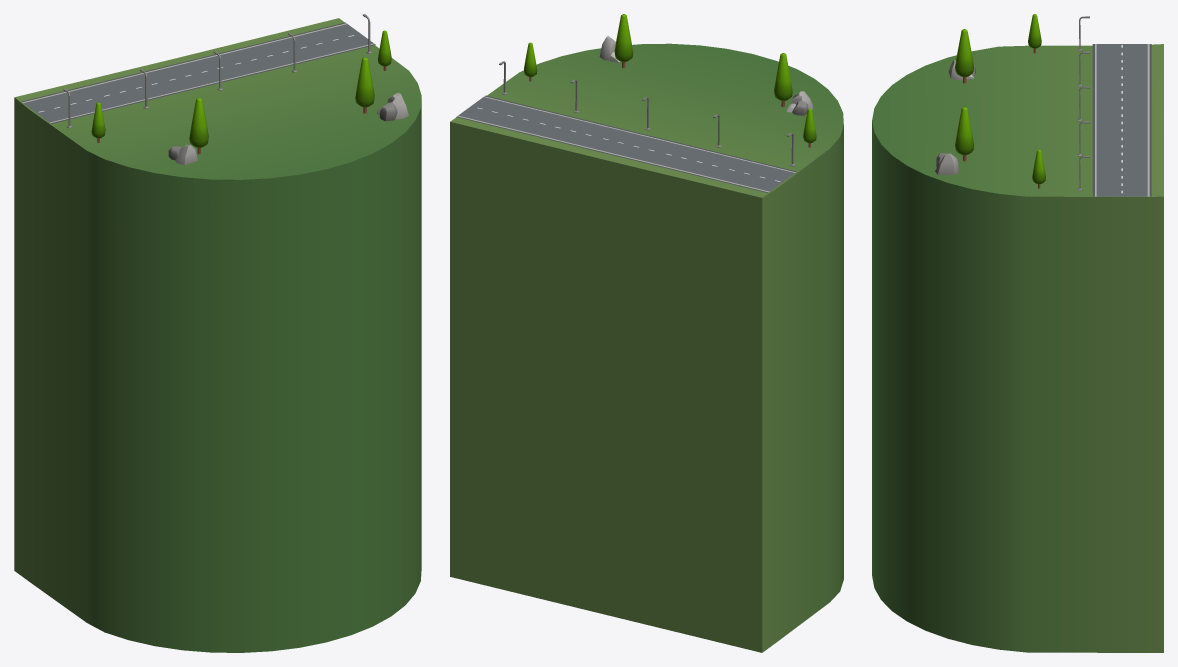
Rendered from Level_1_Finish.fbx.
3 renders of one model, left to right at view 1: azimuth 30°, elevation 25°; view 2: azimuth 150°, elevation 25°; view 3: azimuth 270°, elevation 25°, orthographic. The views are drawn at different scales.
Visible parts, largest first — view 1: Finish_Ground, Road_2, Road_3, Road_1, Road_4, Road_5, Tree_3, Tree_4, Rock_1; view 2: Finish_Ground, Road_4, Road_2, Road_1, Road_3, Road_5, Tree_4, Tree_3; view 3: Finish_Ground, Road_1, Road_2, Road_4, Road_3, Road_5, Tree_4, Tree_3, Rock_1.
Part boxes in pixels (box(x1,y1,x2,y2)): Finish_Ground: box(14, 18, 421, 652); Road_2: box(214, 38, 309, 76); Road_3: box(149, 54, 244, 92); Road_1: box(280, 22, 375, 60); Road_4: box(83, 70, 178, 108); Road_5: box(21, 86, 113, 123); Tree_3: box(355, 57, 374, 113); Tree_4: box(189, 98, 208, 154); Rock_1: box(377, 92, 408, 121); Finish_Ground: box(450, 43, 843, 652); Road_4: box(645, 141, 736, 178); Road_2: box(519, 111, 611, 147); Road_1: box(456, 95, 547, 132); Road_3: box(582, 126, 673, 162); Road_5: box(708, 157, 796, 192); Tree_4: box(774, 53, 792, 106); Tree_3: box(614, 14, 633, 68); Finish_Ground: box(872, 44, 1163, 652); Road_1: box(1092, 165, 1151, 196); Road_2: box(1092, 135, 1151, 165); Road_4: box(1092, 73, 1151, 103); Road_3: box(1092, 104, 1151, 134); Road_5: box(1092, 44, 1151, 73); Tree_4: box(955, 29, 973, 83); Tree_3: box(955, 107, 973, 161); Rock_1: box(935, 152, 959, 174).
Size of the model in its own units: 1100 by 1709 by 888.
